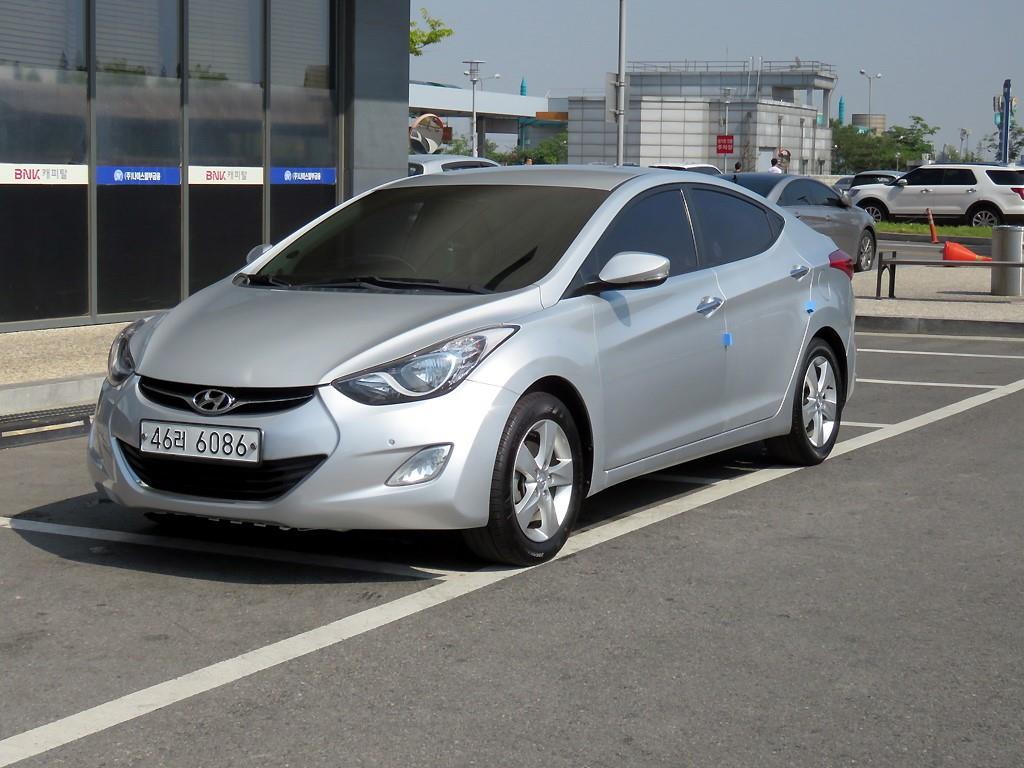plate: (141, 419, 260, 463)
